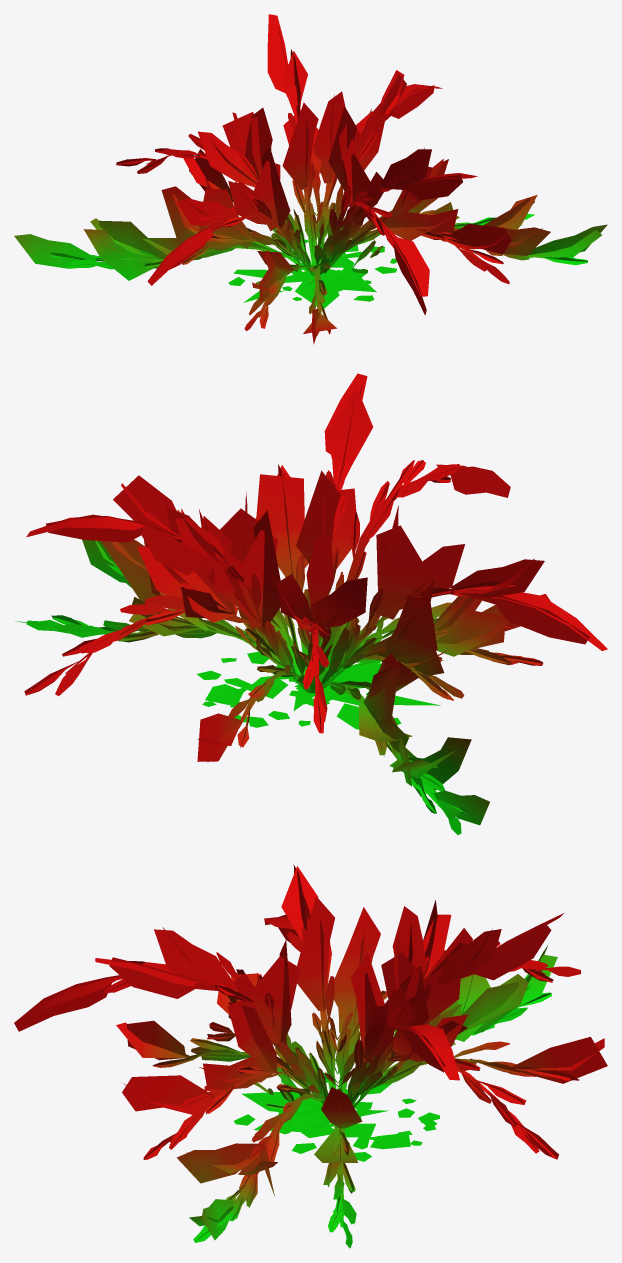
File: River Saltbush_LOD2_Var1_vdfpcgbia.fbx
3 views of the same model, one above another, from view 1: azimuth 30°, elevation 25°; view 2: azimuth 150°, elevation 25°; view 3: azimuth 270°, elevation 25° (orthographic). The views are drawn at different scales.
Visible parts, largest first — view 1: _ijam_Var1_LOD2; view 2: _ijam_Var1_LOD2; view 3: _ijam_Var1_LOD2.
Part boxes in pixels (left/top/right/bottom): _ijam_Var1_LOD2: left=14, top=14, right=607, bottom=344; _ijam_Var1_LOD2: left=15, top=373, right=607, bottom=834; _ijam_Var1_LOD2: left=14, top=864, right=607, bottom=1248.
Bounding box in the file's own units: 84.9 × 33.99 × 76.96.
